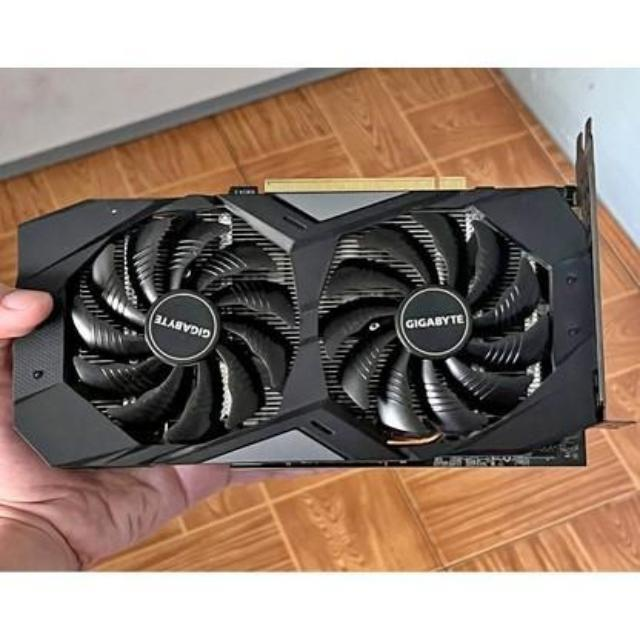GPU: (10, 170, 610, 472)
